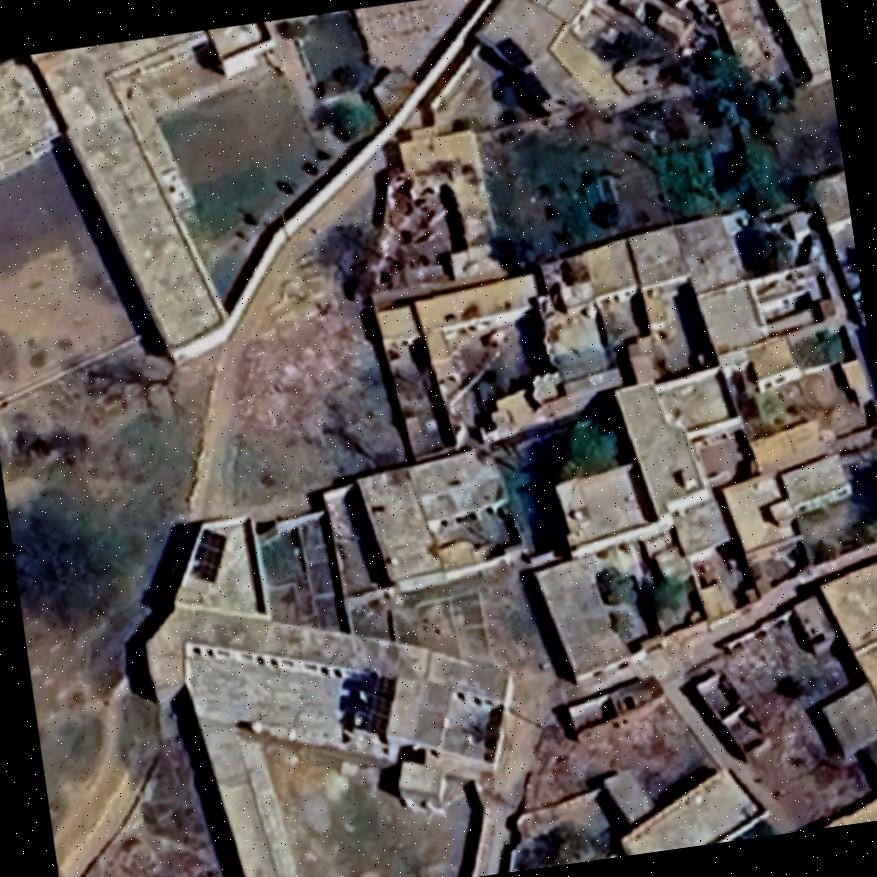Solarpanel: (184, 524, 231, 586), (360, 665, 397, 734), (493, 29, 534, 70), (511, 70, 550, 104)
